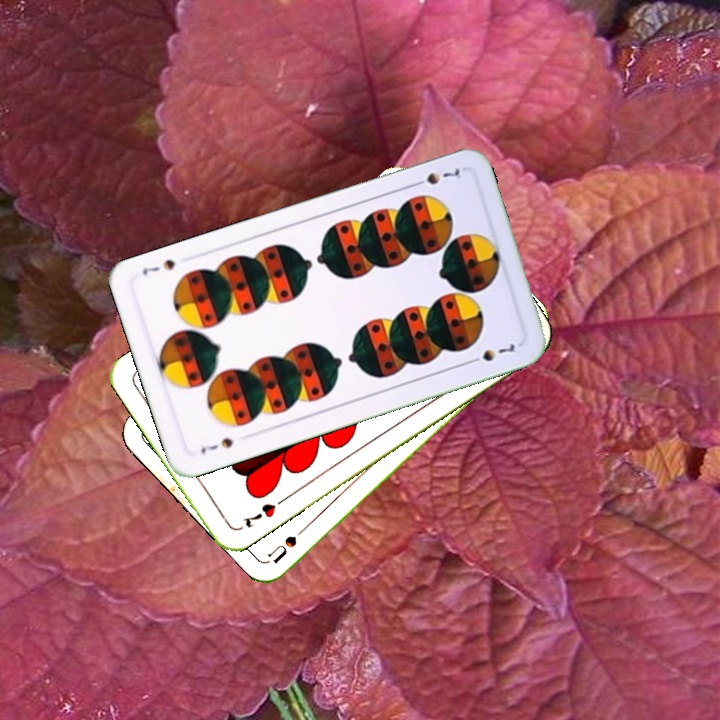H7: (238, 494, 288, 531)
S7: (407, 164, 464, 189), (196, 433, 237, 456)
SU: (265, 518, 315, 566)
